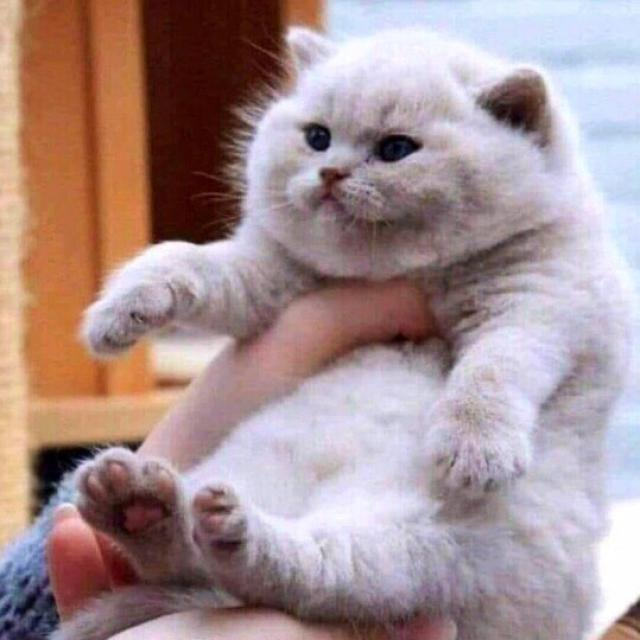Cats: (78, 18, 620, 566)
